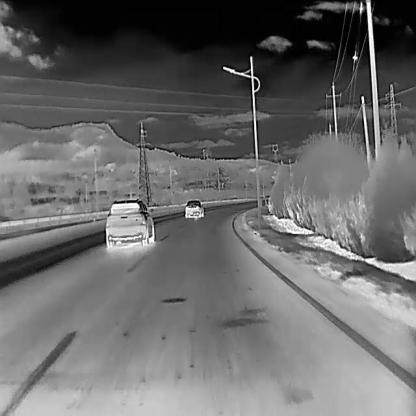car: (105, 197, 154, 246), (184, 198, 203, 218)
